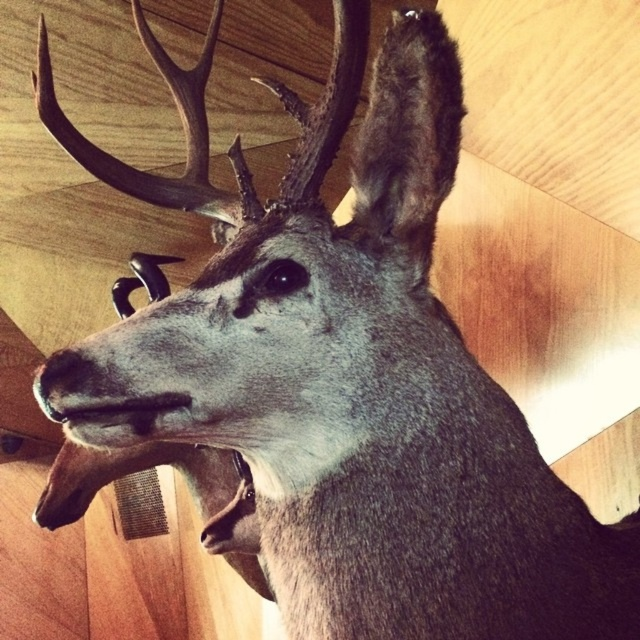Deer: (31, 0, 640, 640)
